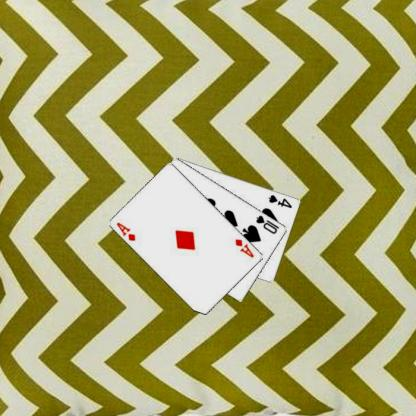10S: (254, 213, 280, 235)
4S: (266, 192, 293, 209)
AD: (233, 237, 256, 259), (114, 220, 137, 242)
